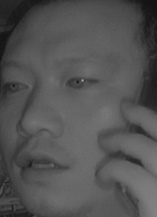eye: (67, 71, 100, 92), (3, 75, 31, 96)
mouth: (15, 142, 71, 183)
